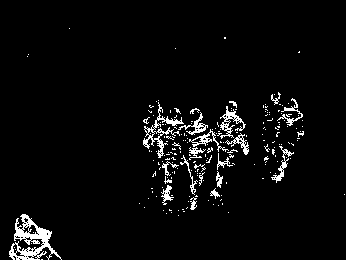person: (213, 99, 249, 200), (186, 108, 212, 210), (275, 98, 304, 183), (160, 107, 184, 207), (142, 99, 163, 182), (260, 91, 279, 166)
